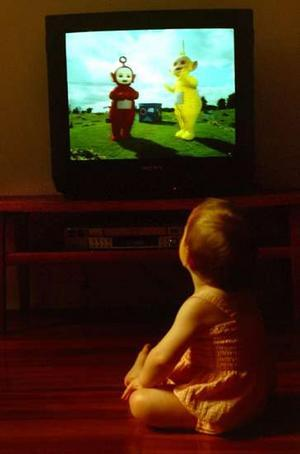person: (125, 196, 264, 441)
